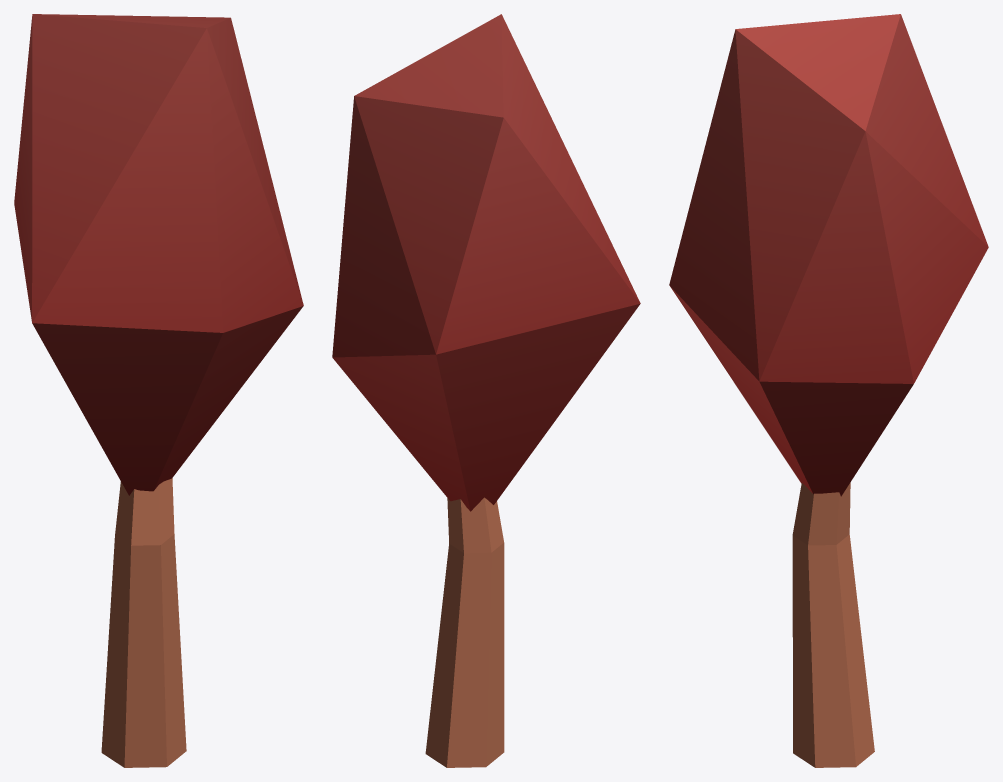
Rendered from Tree_08_gradient_red_vc.fbx.
3 renders of one model, left to right at view 1: azimuth 30°, elevation 25°; view 2: azimuth 150°, elevation 25°; view 3: azimuth 270°, elevation 25°, orthographic. The views are drawn at different scales.
Parts seen in each view (by area): view 1: Tree_08_gradient_red_vc; view 2: Tree_08_gradient_red_vc; view 3: Tree_08_gradient_red_vc.
Boxes of the visible parts, bbox=[...] form: Tree_08_gradient_red_vc: bbox=[14, 14, 303, 767]; Tree_08_gradient_red_vc: bbox=[332, 14, 640, 767]; Tree_08_gradient_red_vc: bbox=[669, 14, 988, 767].
Size of the model in its own units: 93.3 by 249 by 98.84.
